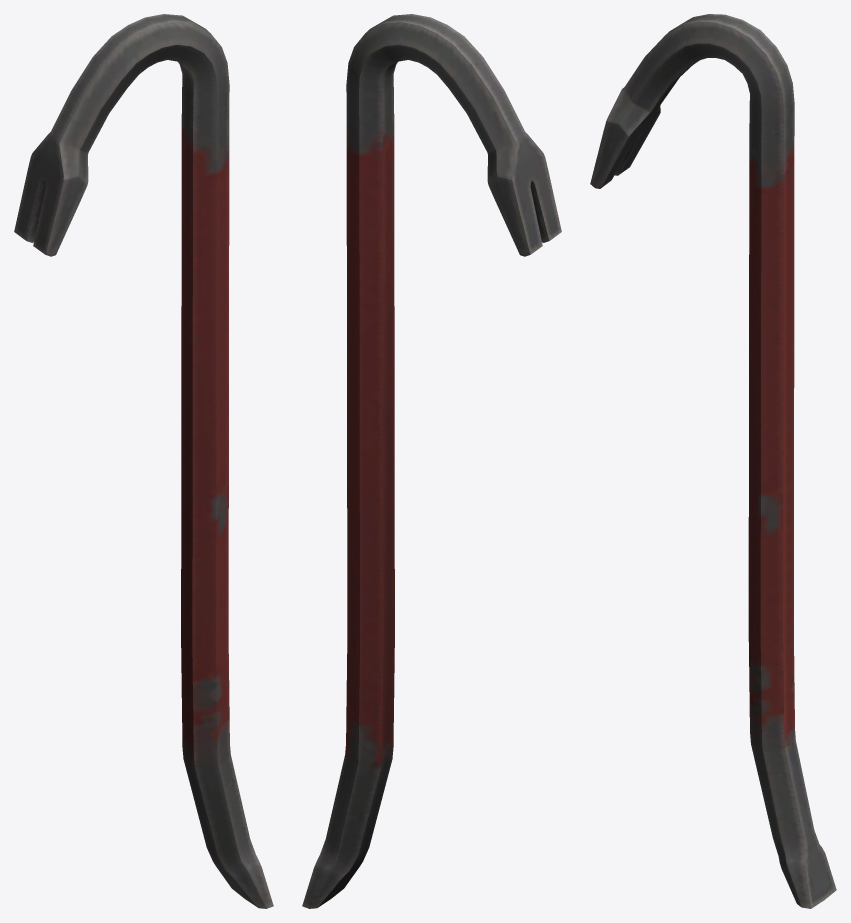
File: atomic_crowbar.glb
The picture shows the model from 3 angles, left to right: view 1: azimuth 30°, elevation 25°; view 2: azimuth 150°, elevation 25°; view 3: azimuth 330°, elevation 25°; orthographic projection. The views are drawn at different scales.
Visible parts, largest first — view 1: atomic_crowbar; view 2: atomic_crowbar; view 3: atomic_crowbar.
Part boxes in pixels (x1=…): atomic_crowbar: x1=14, y1=14, x2=273, y2=908; atomic_crowbar: x1=302, y1=14, x2=561, y2=908; atomic_crowbar: x1=590, y1=14, x2=836, y2=908.
Size of the model in its own units: 0.1978 by 0.7402 by 0.0512.
1 material, 1 textured.
